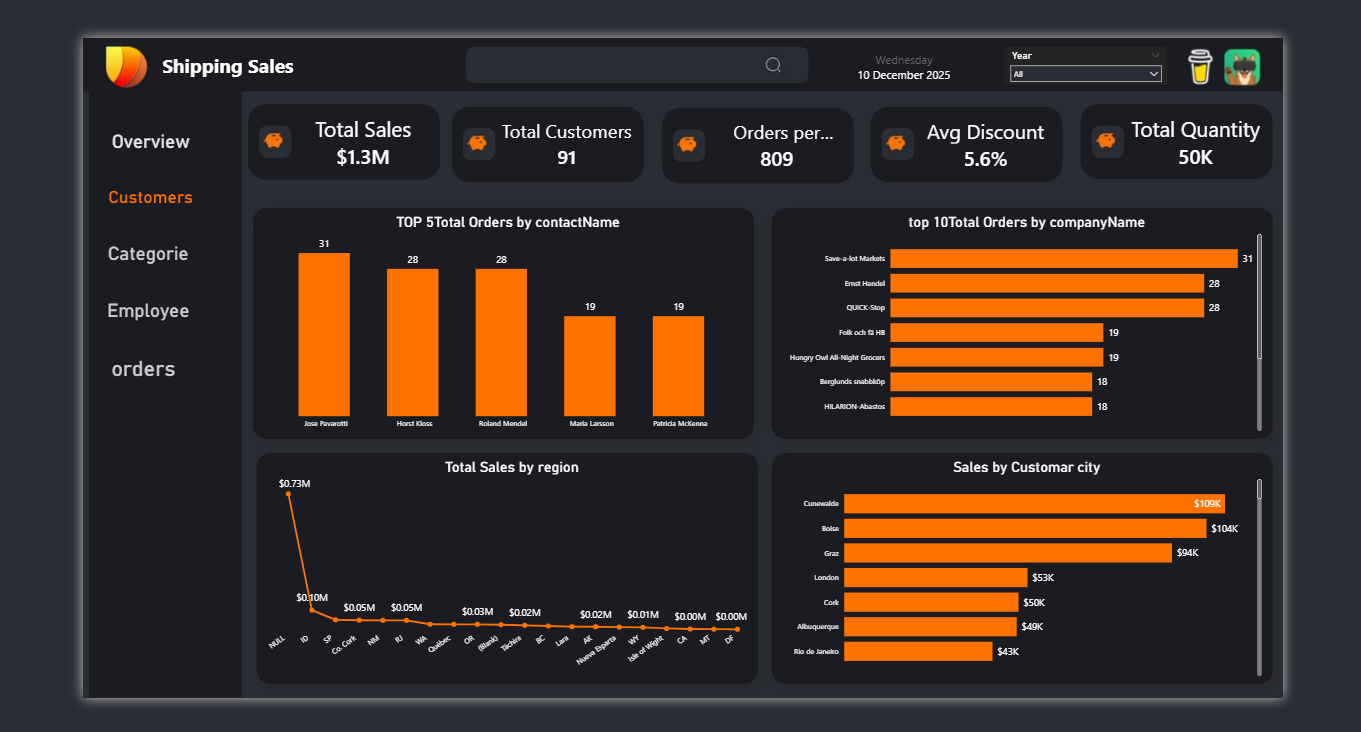

The dashboard page shown, as its layout file describes it:
{"tool":"powerbi","page":{"name":" Customar ","canvas":[2000,1100],"ordinal":1},"visuals":[{"type":"shape","box":[0,0,2000,88.9],"z":0},{"type":"shape","box":[11.1,11.1,253.7,1088.9],"z":1000},{"type":"actionButton","title":"Customers","box":[40.7,247.7,142.6,40.7],"z":2000},{"type":"actionButton","title":"Categories","box":[37,341.7,142.6,40.7],"z":3000},{"type":"actionButton","title":"orders","box":[29.6,529.6,142.6,40.7],"z":4000},{"type":"actionButton","title":"Employee","box":[37,435.6,142.6,40.7],"z":5000},{"type":"barChart","title":" Sales by Customar city","fields":{"Y":["MeasureDAX.Total Sales"],"Category":["customer_Dim.city"]},"box":[1148.1,690.7,835.2,385.2],"z":6000},{"type":"columnChart","title":"TOP 5Total Orders by contactName","fields":{"Y":["MeasureDAX.Total Orders"],"Category":["customer_Dim.contactName"]},"box":[283.3,283.3,835.2,385.2],"z":7000},{"type":"shape","box":[637,14.8,572.2,61.1],"z":8000},{"type":"textbox","box":[1259.3,18.5,220.4,61.1],"z":9000},{"type":"image","box":[1775.9,9.3,168.5,75.9],"z":10000},{"type":"image","box":[1861.1,5.6,138.9,75.9],"z":11000},{"type":"image","box":[0,1.9,116.7,88.9],"z":12000},{"type":"textbox","box":[127.8,18.5,309.3,66.7],"z":13000},{"type":"image","box":[1085.2,22.2,124.1,48.1],"z":14000},{"type":"actionButton","title":"Overview","box":[40.7,153.7,142.6,40.7],"z":15000},{"type":"slicer","fields":{"Values":["order_Dim.orderDate.Variation.Date Hierarchy.Year"]},"box":[1535.2,14.8,272.2,63],"z":16000},{"type":"clusteredBarChart","title":"top 10Total Orders by companyName","fields":{"Category":["customer_Dim.companyName"],"Y":["MeasureDAX.Total Orders"]},"box":[1148.1,283.3,835.2,385.2],"z":17000},{"type":"lineChart","fields":{"Category":["customer_Dim.region"],"Y":["MeasureDAX.Total Sales"]},"box":[288.9,690.7,835.2,385.2],"z":18000},{"type":"cardVisual","fields":{"Data":["MeasureDAX.Total Sales"]},"box":[275.9,111.1,320.4,125.9],"z":19000},{"type":"cardVisual","fields":{"Data":["MeasureDAX Customar.Total Customers"]},"box":[614.5,115.3,320,125.9],"z":20000},{"type":"cardVisual","fields":{"Data":["MeasureDAX.Avg Discount"]},"box":[1313.2,113.6,320.4,125.9],"z":21000},{"type":"cardVisual","fields":{"Data":["MeasureDAX Customar.Orders per Customer"]},"box":[963.9,117,320,125.9],"z":22000},{"type":"cardVisual","fields":{"Data":["MeasureDAX.Total Quantity"]},"box":[1663,111.1,320.4,125],"z":23000}]}

Visuals, with their boxes on the page's 2000x1100 design canvas (x1, y1, x2, y2). These are canvas units, not pixel positions in the 1361x732 screenshot, which may show the page scaled, cropped or inside an application window:
shape: <bbox>0, 0, 2000, 89</bbox>
shape: <bbox>11, 11, 265, 1100</bbox>
"Customers" actionButton: <bbox>41, 248, 183, 288</bbox>
"Categories" actionButton: <bbox>37, 342, 180, 382</bbox>
"orders" actionButton: <bbox>30, 530, 172, 570</bbox>
"Employee" actionButton: <bbox>37, 436, 180, 476</bbox>
" Sales by Customar city" barChart: <bbox>1148, 691, 1983, 1076</bbox>
"TOP 5Total Orders by contactName" columnChart: <bbox>283, 283, 1118, 668</bbox>
shape: <bbox>637, 15, 1209, 76</bbox>
textbox: <bbox>1259, 18, 1480, 80</bbox>
image: <bbox>1776, 9, 1944, 85</bbox>
image: <bbox>1861, 6, 2000, 82</bbox>
image: <bbox>0, 2, 117, 91</bbox>
textbox: <bbox>128, 18, 437, 85</bbox>
image: <bbox>1085, 22, 1209, 70</bbox>
"Overview" actionButton: <bbox>41, 154, 183, 194</bbox>
slicer - order_Dim.orderDate.Variation.Date Hierarchy.Year: <bbox>1535, 15, 1807, 78</bbox>
"top 10Total Orders by companyName" clusteredBarChart: <bbox>1148, 283, 1983, 668</bbox>
lineChart - customer_Dim.region x MeasureDAX.Total Sales: <bbox>289, 691, 1124, 1076</bbox>
cardVisual - MeasureDAX.Total Sales: <bbox>276, 111, 596, 237</bbox>
cardVisual - MeasureDAX Customar.Total Customers: <bbox>614, 115, 934, 241</bbox>
cardVisual - MeasureDAX.Avg Discount: <bbox>1313, 114, 1634, 240</bbox>
cardVisual - MeasureDAX Customar.Orders per Customer: <bbox>964, 117, 1284, 243</bbox>
cardVisual - MeasureDAX.Total Quantity: <bbox>1663, 111, 1983, 236</bbox>
